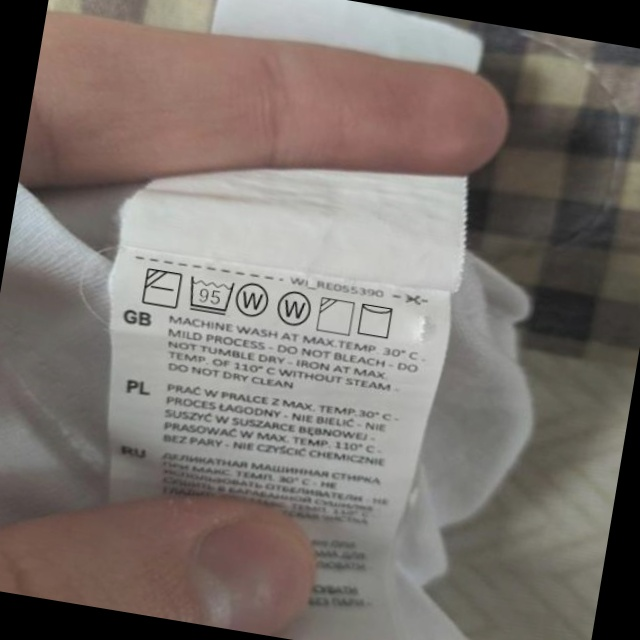95C: (184, 272, 237, 317)
dry_flat_in_shade: (139, 264, 184, 312)
line_dry: (354, 298, 399, 342)
shade_dry: (314, 294, 358, 338)
wet_clean: (234, 276, 275, 322), (273, 287, 315, 331)
